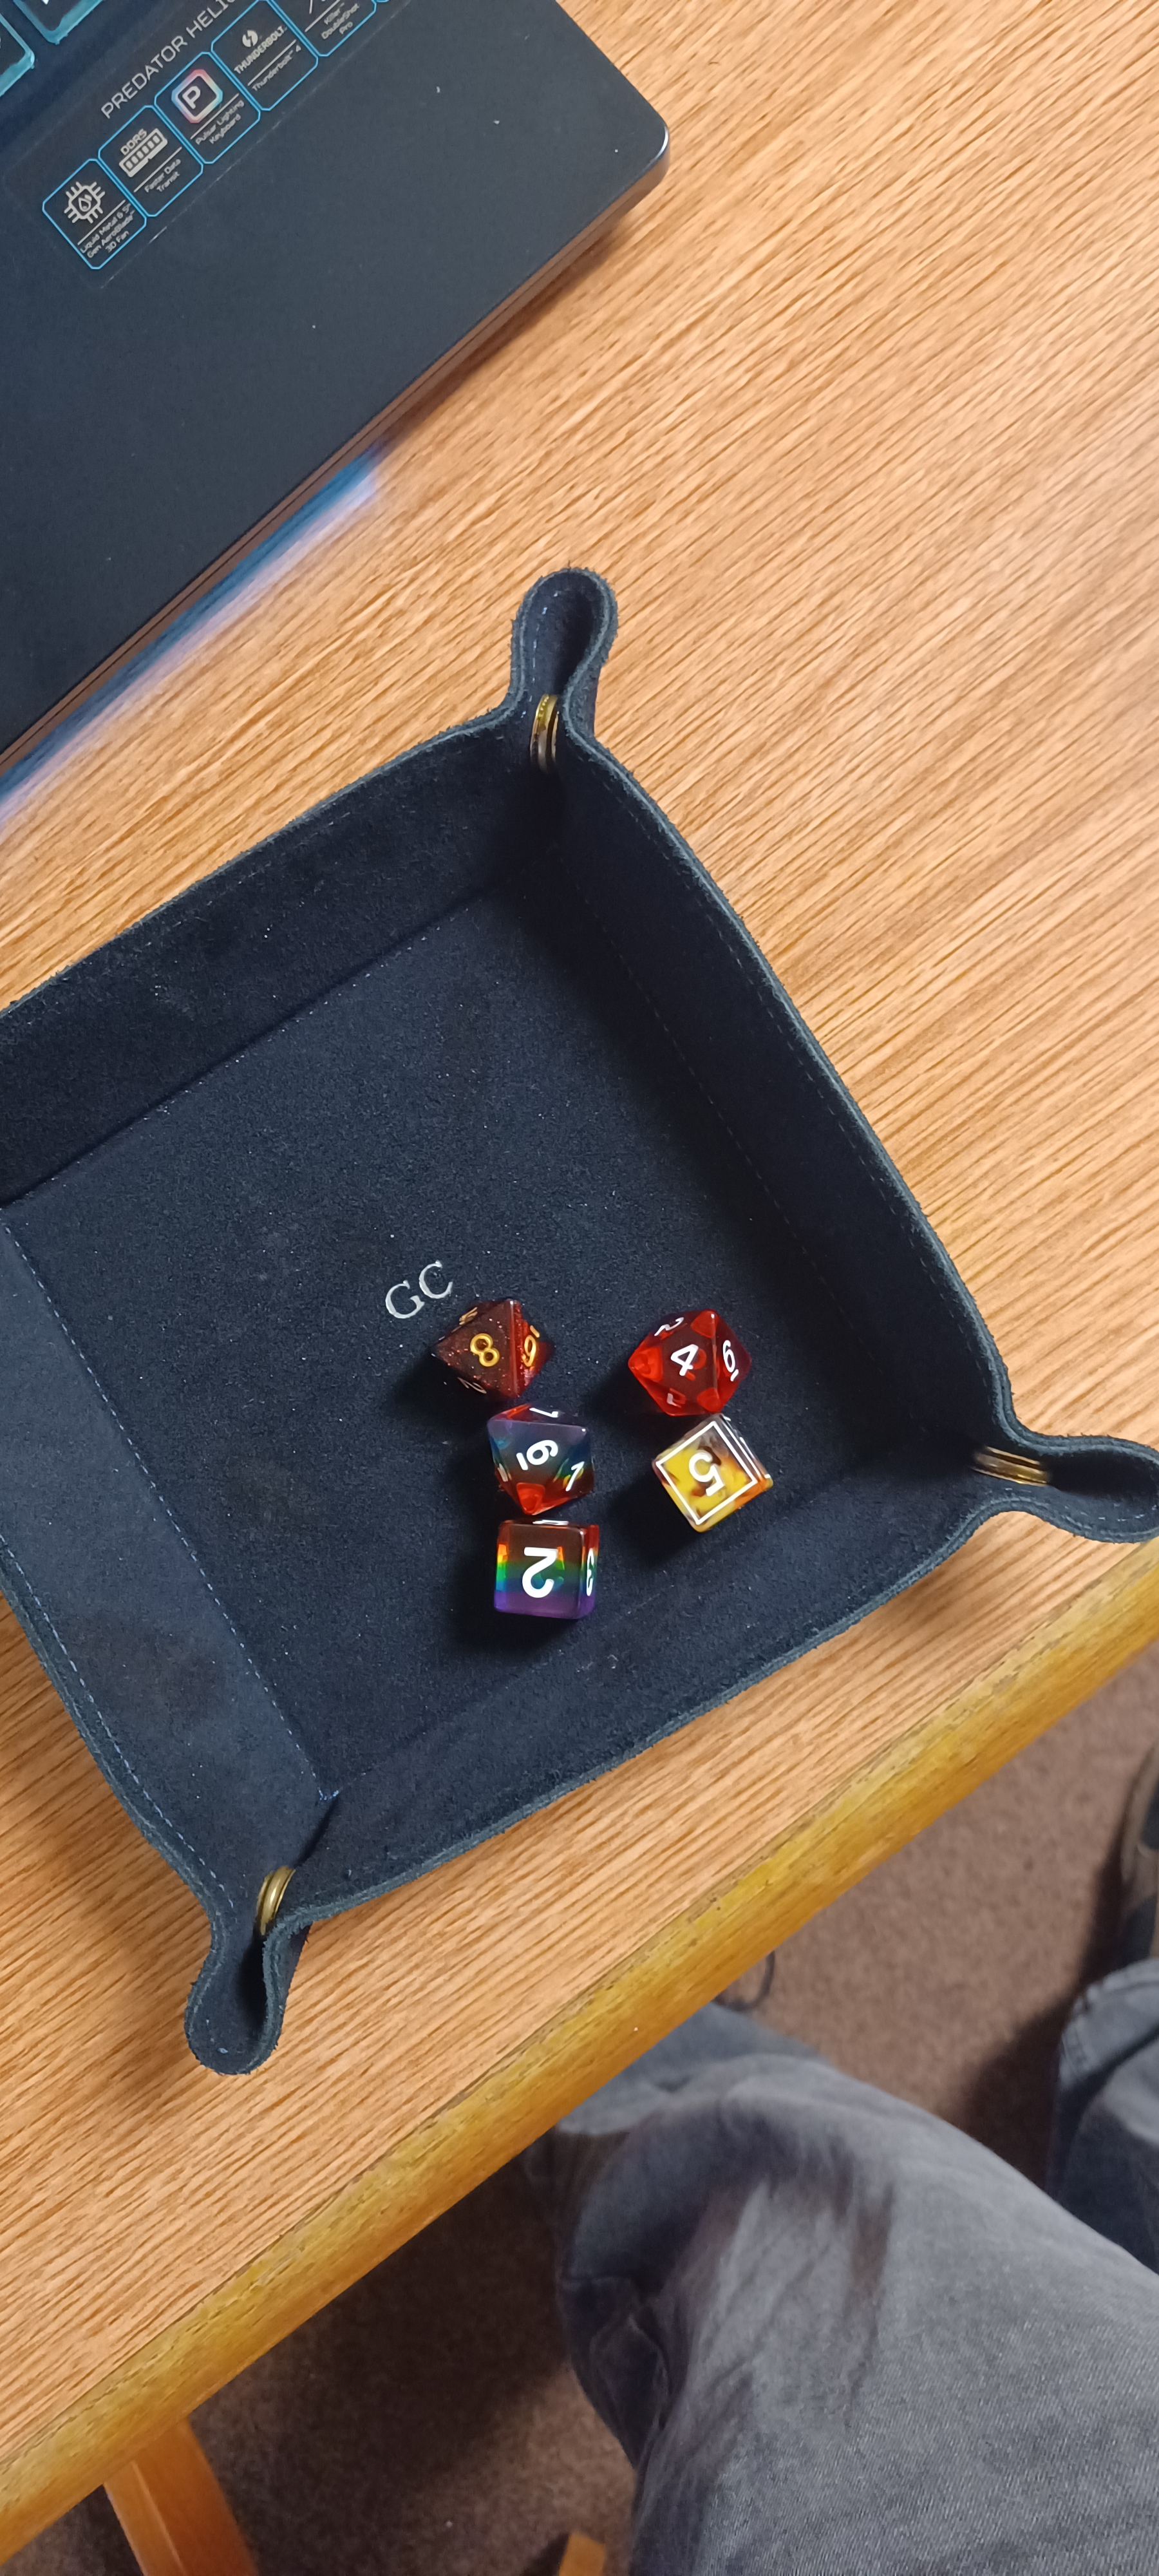eight: (422, 1285, 560, 1408)
five: (648, 1410, 785, 1548)
four: (606, 1299, 765, 1426)
six: (468, 1395, 614, 1536)
two: (463, 1503, 619, 1640)
